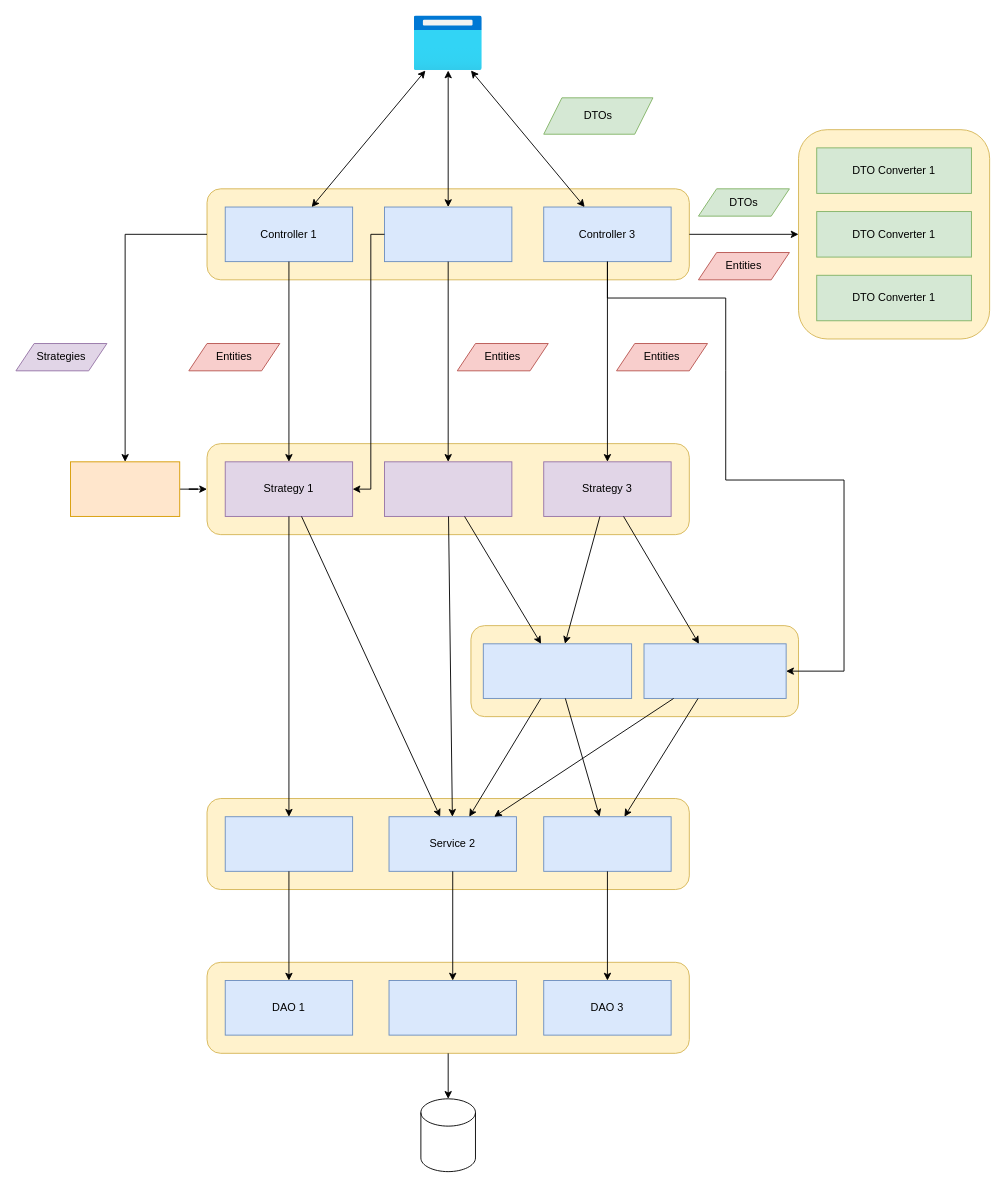
Some shapes in this 1006 by 1188 pixel diagram are drawn without their labels. Here are the shapes that lost their labels. From the top down, the box of each, then its label:
(384, 206, 512, 262): Controller 2
(70, 461, 180, 516): Strategy Factory
(384, 461, 512, 516): Strategy 2
(482, 643, 632, 698): Mediator A
(643, 643, 786, 698): Mediator B
(224, 816, 353, 871): Service 1
(543, 816, 671, 871): Service 3
(388, 980, 516, 1035): DAO 2
(420, 1098, 475, 1172): DB
